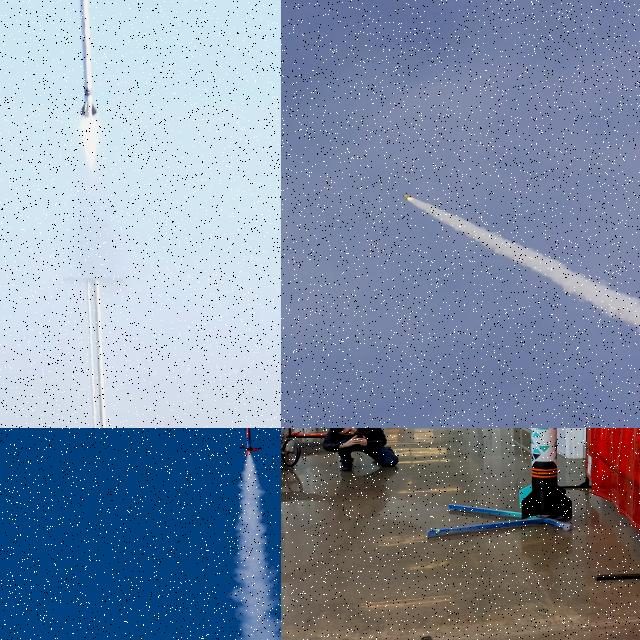Rocket: (519, 428, 572, 520), (78, 0, 97, 117), (237, 428, 262, 457), (402, 194, 412, 200)
